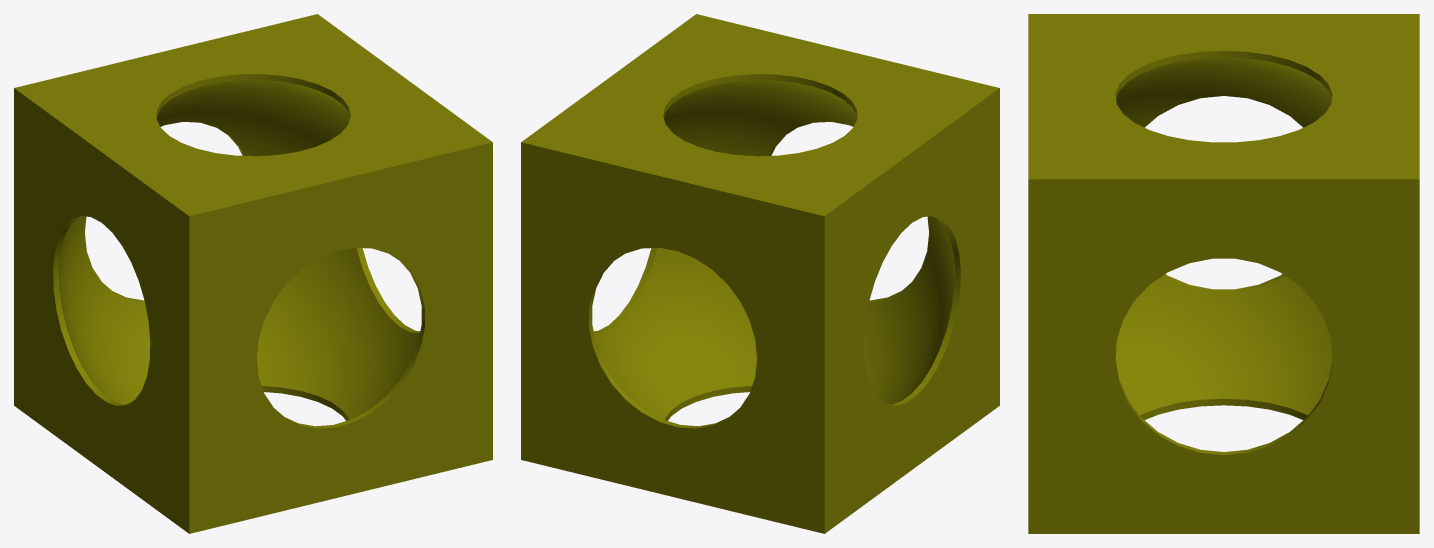
3 renders of one model, left to right at view 1: azimuth 30°, elevation 25°; view 2: azimuth 150°, elevation 25°; view 3: azimuth 270°, elevation 25°, orthographic. The views are drawn at different scales.
Visible parts, largest first — view 1: Body8; view 2: Body8; view 3: Body8.
Boxes of the visible parts, x1,y1,x2,y2 form: Body8: (14,14,492,533); Body8: (521,14,999,533); Body8: (1028,14,1419,533).
Size of the model in its own units: 0.09 by 0.09 by 0.09.
